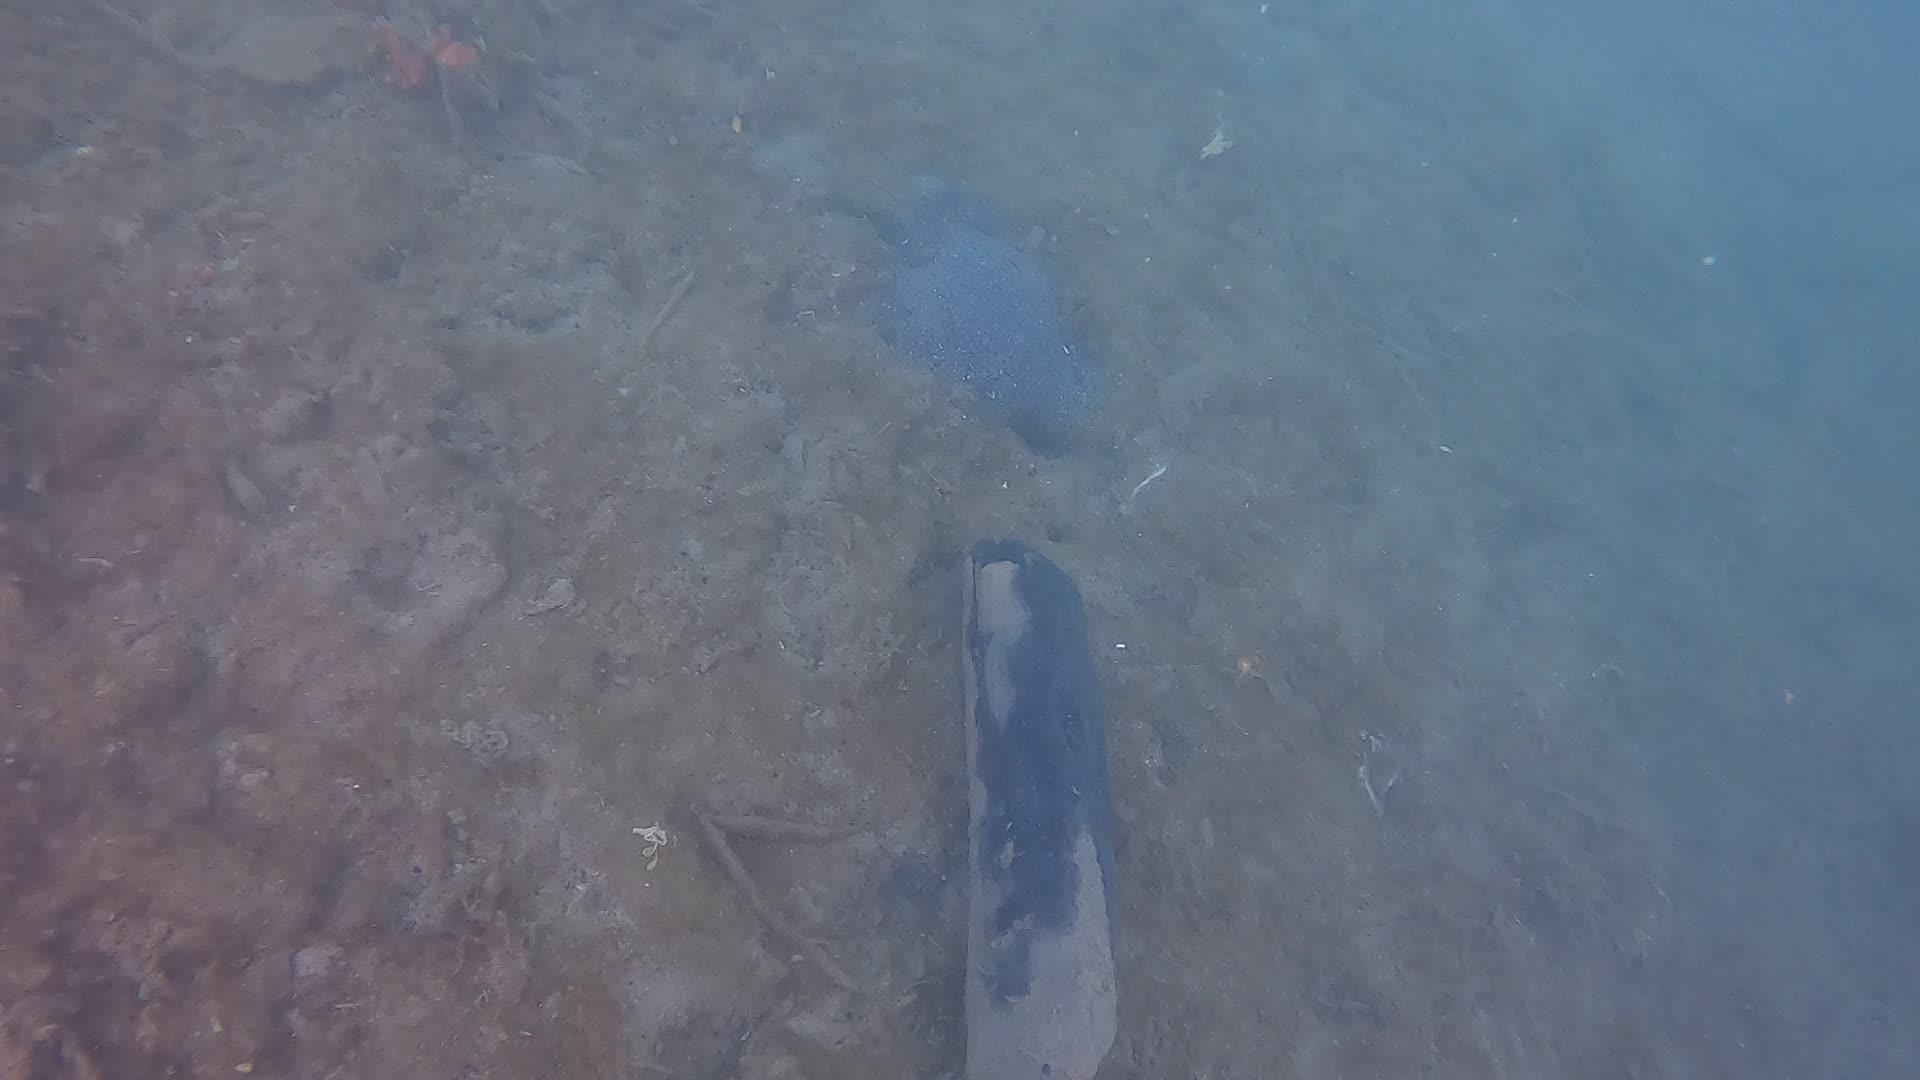wood: (953, 530, 1112, 1071)
